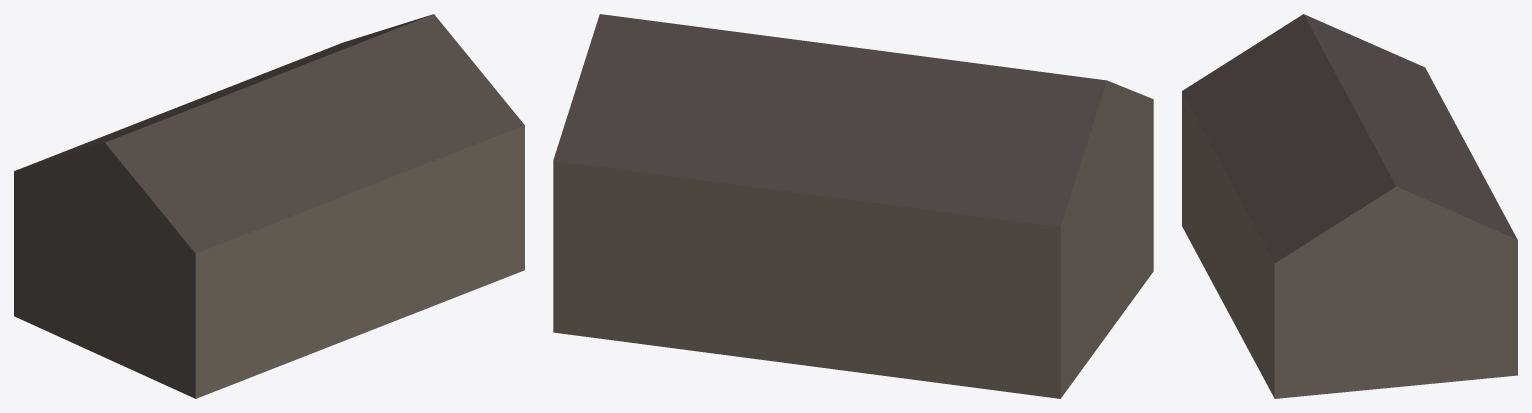
The picture shows the model from 3 angles, left to right: view 1: azimuth 30°, elevation 25°; view 2: azimuth 150°, elevation 25°; view 3: azimuth 270°, elevation 25°; orthographic projection. The views are drawn at different scales.
Parts seen in each view (by area): view 1: HP-w1202561783; view 2: HP-w1202561783; view 3: HP-w1202561783.
Boxes of the visible parts, x1,y1,x2,y2 form: HP-w1202561783: (14, 14, 524, 398); HP-w1202561783: (553, 14, 1153, 398); HP-w1202561783: (1182, 14, 1517, 398).
Bounding box in the file's own units: 27.93 × 13.33 × 20.21.
